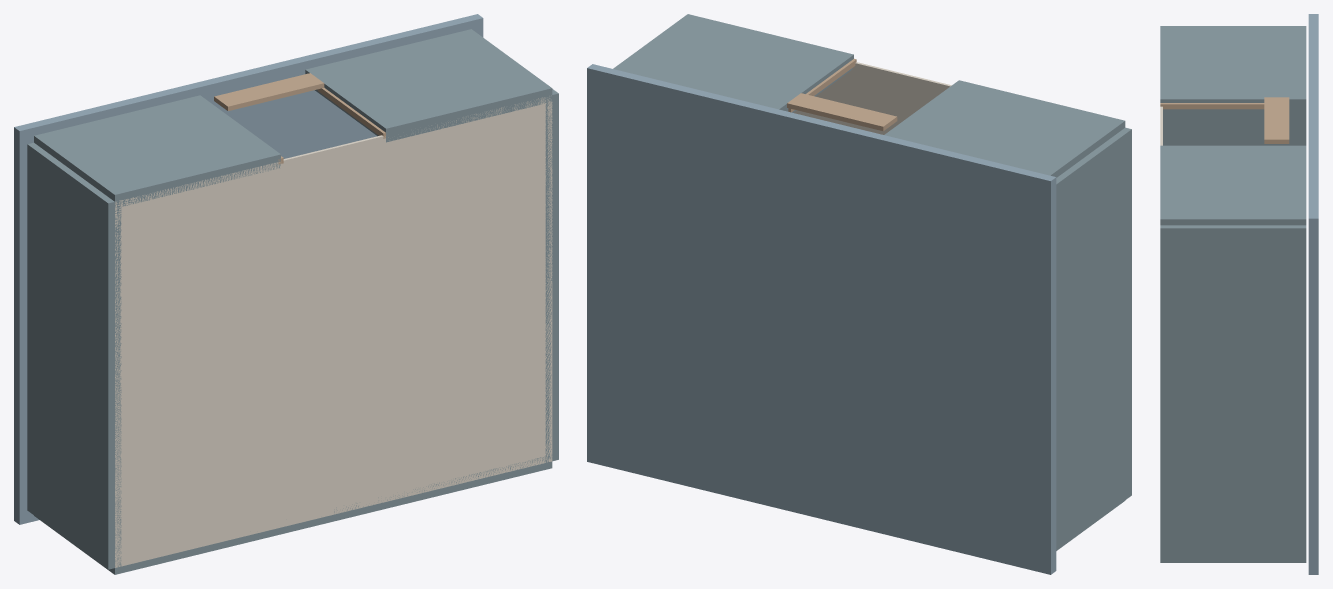
The model's file is building_warehouse.glb.
The picture shows the model from 3 angles, left to right: view 1: azimuth 30°, elevation 25°; view 2: azimuth 150°, elevation 25°; view 3: azimuth 270°, elevation 25°; orthographic projection. The views are drawn at different scales.
Parts seen in each view (by area): view 1: building_warehouse_floor, building_warehouse_w, building_warehouse_roof, building_warehouse_s_l, building_warehouse_s_r, building_warehouse_e, building_warehouse_n, building_warehouse_sign; view 2: building_warehouse_roof, building_warehouse_w, building_warehouse_s_l, building_warehouse_s_r, building_warehouse_floor, building_warehouse_sign; view 3: building_warehouse_e, building_warehouse_s_r, building_warehouse_s_l, building_warehouse_roof, building_warehouse_w, building_warehouse_sign, building_warehouse_jamb_l, building_warehouse_n.
Part boxes in pixels (bbox=[...]): building_warehouse_floor: bbox=[115, 95, 552, 567]; building_warehouse_w: bbox=[27, 142, 121, 569]; building_warehouse_roof: bbox=[14, 14, 483, 524]; building_warehouse_s_l: bbox=[34, 95, 280, 207]; building_warehouse_s_r: bbox=[305, 29, 552, 142]; building_warehouse_e: bbox=[545, 89, 558, 462]; building_warehouse_n: bbox=[34, 455, 552, 574]; building_warehouse_sign: bbox=[214, 73, 324, 110]; building_warehouse_roof: bbox=[587, 64, 1056, 574]; building_warehouse_w: bbox=[1056, 127, 1131, 550]; building_warehouse_s_l: bbox=[884, 80, 1125, 177]; building_warehouse_s_r: bbox=[613, 14, 853, 112]; building_warehouse_floor: bbox=[793, 62, 951, 134]; building_warehouse_sign: bbox=[787, 93, 897, 131]; building_warehouse_e: bbox=[1160, 225, 1306, 559]; building_warehouse_s_r: bbox=[1160, 145, 1306, 225]; building_warehouse_s_l: bbox=[1160, 26, 1306, 111]; building_warehouse_roof: bbox=[1308, 14, 1318, 574]; building_warehouse_w: bbox=[1163, 112, 1306, 145]; building_warehouse_sign: bbox=[1264, 97, 1289, 143]; building_warehouse_jamb_l: bbox=[1160, 103, 1264, 109]; building_warehouse_n: bbox=[1160, 559, 1306, 562].
Bounding box in the file's own units: 10.6 × 8.6 × 3.47.
